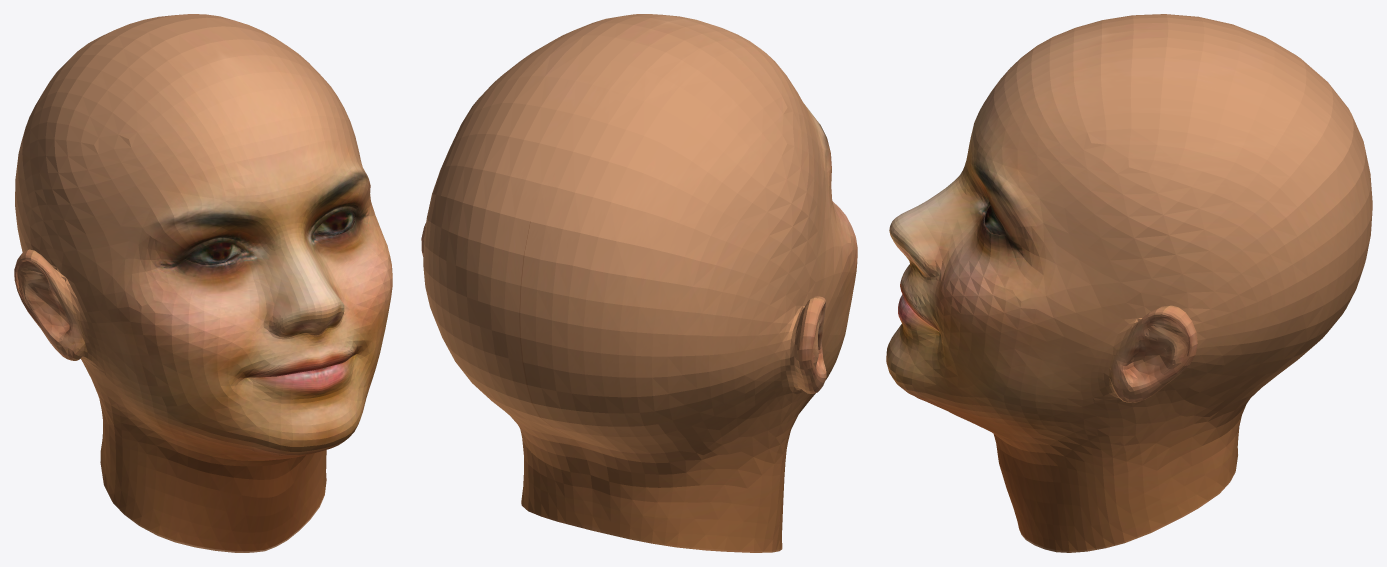
File: ModelFace2.obj
3 views of the same model, side by side, from view 1: azimuth 30°, elevation 25°; view 2: azimuth 150°, elevation 25°; view 3: azimuth 270°, elevation 25° (orthographic). The views are drawn at different scales.
Visible parts, largest first — view 1: skin_hi, eyeR_hi, eyeL_hi; view 2: skin_hi; view 3: skin_hi.
Part boxes in pixels (x1=…): skin_hi: x1=14, y1=14, x2=392, y2=552; eyeR_hi: x1=186, y1=242, x2=240, y2=264; eyeL_hi: x1=313, y1=210, x2=354, y2=235; skin_hi: x1=421, y1=14, x2=857, y2=552; skin_hi: x1=886, y1=14, x2=1372, y2=552.
Bounding box in the file's own units: 213 × 281 × 249.
Materials: 7 (7 with a texture image).
